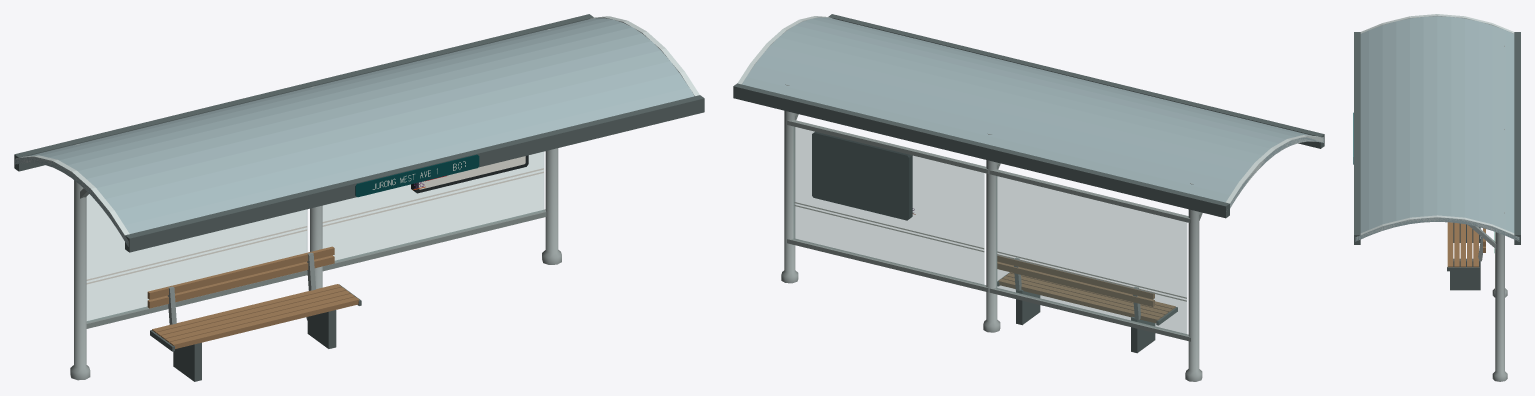
The model's file is sg-bus-shelter-sbs.glb.
The picture shows the model from 3 angles, left to right: view 1: azimuth 30°, elevation 25°; view 2: azimuth 150°, elevation 25°; view 3: azimuth 270°, elevation 25°; orthographic projection. The views are drawn at different scales.
Parts seen in each view (by area): view 1: curved_canopy, windbreak_glazing, fascias, bench_slats, rear_columns, bench_back, windbreak_frames, visibility_bands, bench_legs, stop_address_plate, roof_end_caps, route_information; view 2: curved_canopy, windbreak_glazing, fascias, route_information, rear_columns, windbreak_frames, bench_slats, bench_back, visibility_bands, roof_end_caps, bench_legs; view 3: curved_canopy, fascias, rear_columns, bench_slats, roof_end_caps, bench_legs, cantilever_brackets.
Part boxes in pixels (box(x1,y1,x2,y2)): curved_canopy: box(15, 18, 694, 246); windbreak_glazing: box(87, 152, 543, 322); fascias: box(14, 14, 704, 252); bench_slats: box(150, 284, 361, 351); rear_columns: box(70, 29, 561, 380); bench_back: box(147, 246, 334, 324); windbreak_frames: box(86, 209, 546, 328); visibility_bands: box(86, 168, 543, 284); bench_legs: box(173, 310, 336, 381); stop_address_plate: box(355, 154, 479, 197); roof_end_caps: box(15, 16, 699, 245); route_information: box(411, 155, 528, 193); curved_canopy: box(742, 17, 1323, 208); windbreak_glazing: box(793, 126, 1186, 334); fascias: box(733, 14, 1324, 218); route_information: box(812, 132, 915, 220); rear_columns: box(781, 84, 1202, 381); windbreak_frames: box(787, 120, 1190, 341); bench_slats: box(997, 272, 1177, 325); bench_back: box(997, 256, 1154, 320); visibility_bands: box(794, 202, 1186, 301); roof_end_caps: box(737, 16, 1323, 207); bench_legs: box(1016, 289, 1155, 353); curved_canopy: box(1355, 16, 1519, 241); fascias: box(1354, 32, 1520, 244); rear_columns: box(1492, 45, 1507, 381); bench_slats: box(1447, 222, 1479, 271); roof_end_caps: box(1355, 14, 1519, 240); bench_legs: box(1450, 222, 1480, 290); cantilever_brackets: box(1468, 225, 1496, 248).
Bounding box in the file's own units: 6.9 × 2.85 × 2.41.
